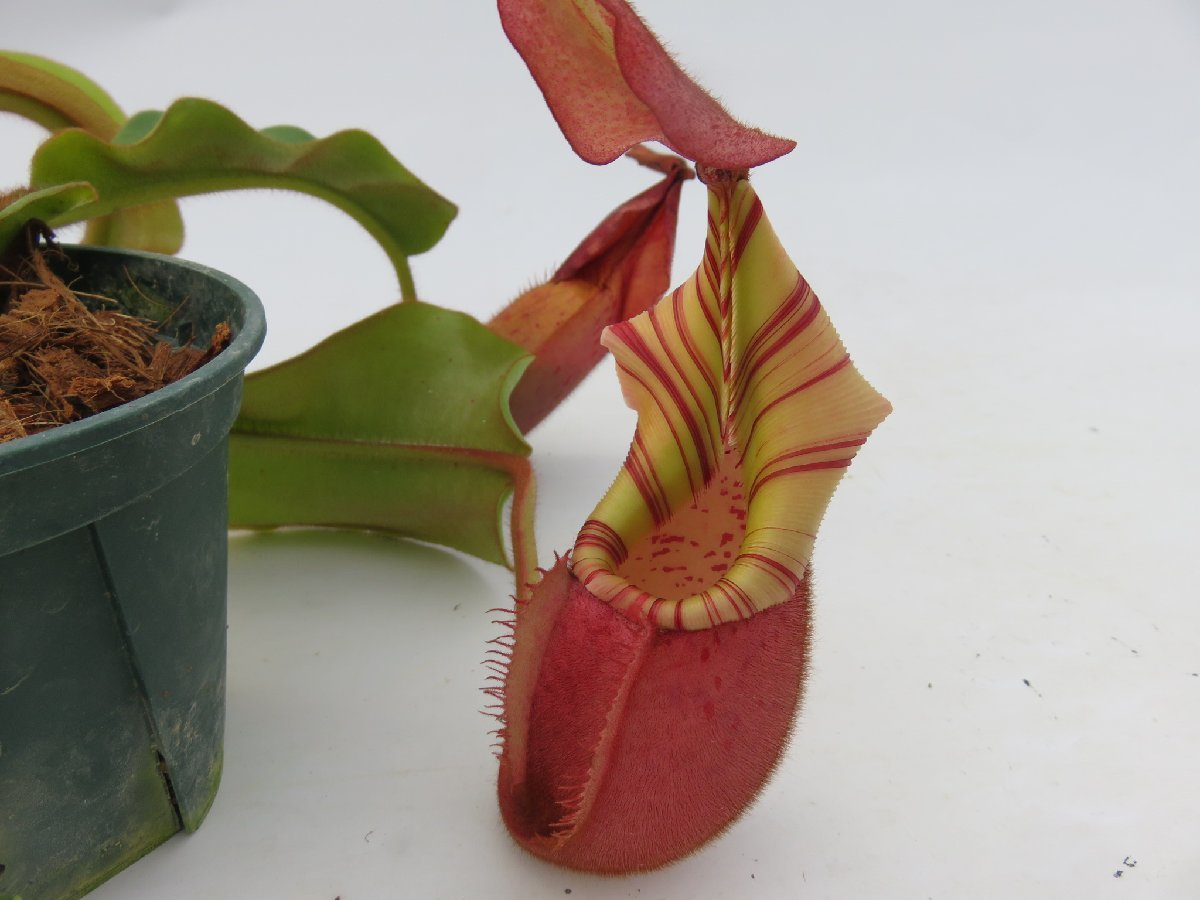veitchii: (418, 12, 936, 886)
